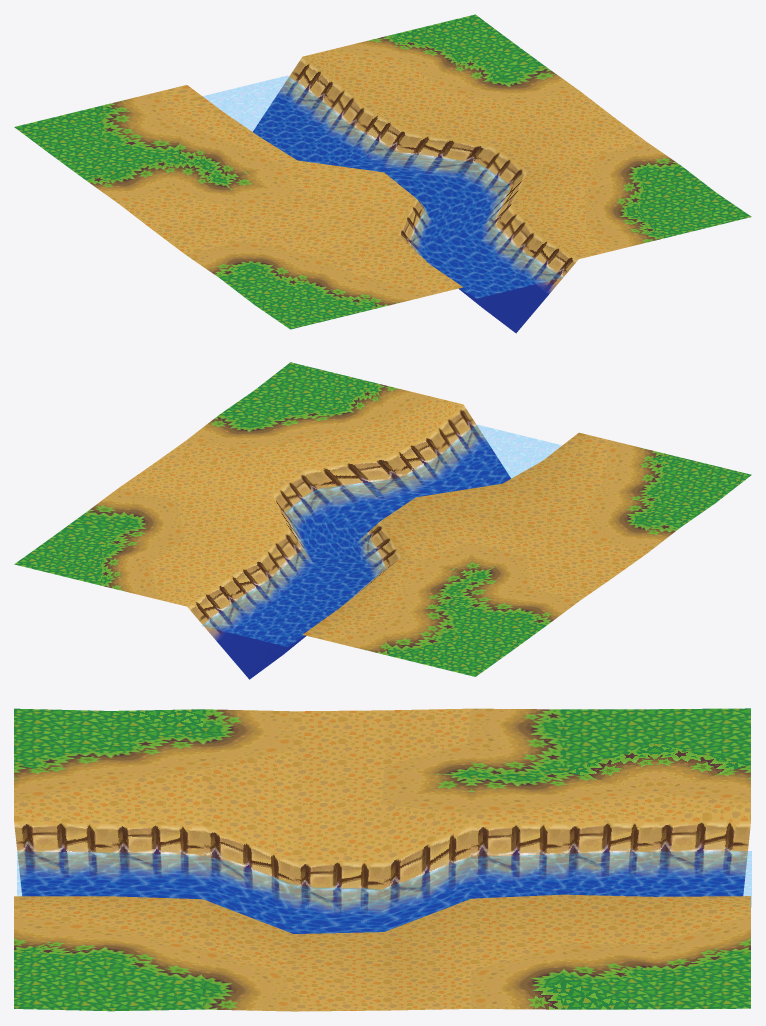
Rendered from c_grd_r1_2.001.glb.
3 views of the same model, one above another, from view 1: azimuth 30°, elevation 25°; view 2: azimuth 150°, elevation 25°; view 3: azimuth 270°, elevation 25° (orthographic). The views are drawn at different scales.
Visible parts, largest first — view 1: c_grd_r1_2.001; view 2: c_grd_r1_2.001; view 3: c_grd_r1_2.001.
Boxes of the visible parts, box(x1,y1,x2,y2) form: c_grd_r1_2.001: box(14, 14, 751, 333); c_grd_r1_2.001: box(14, 362, 751, 679); c_grd_r1_2.001: box(14, 708, 751, 1011).
Bounding box in the file's own units: 32 × 4.25 × 33.24.
5 materials, 5 textured.
